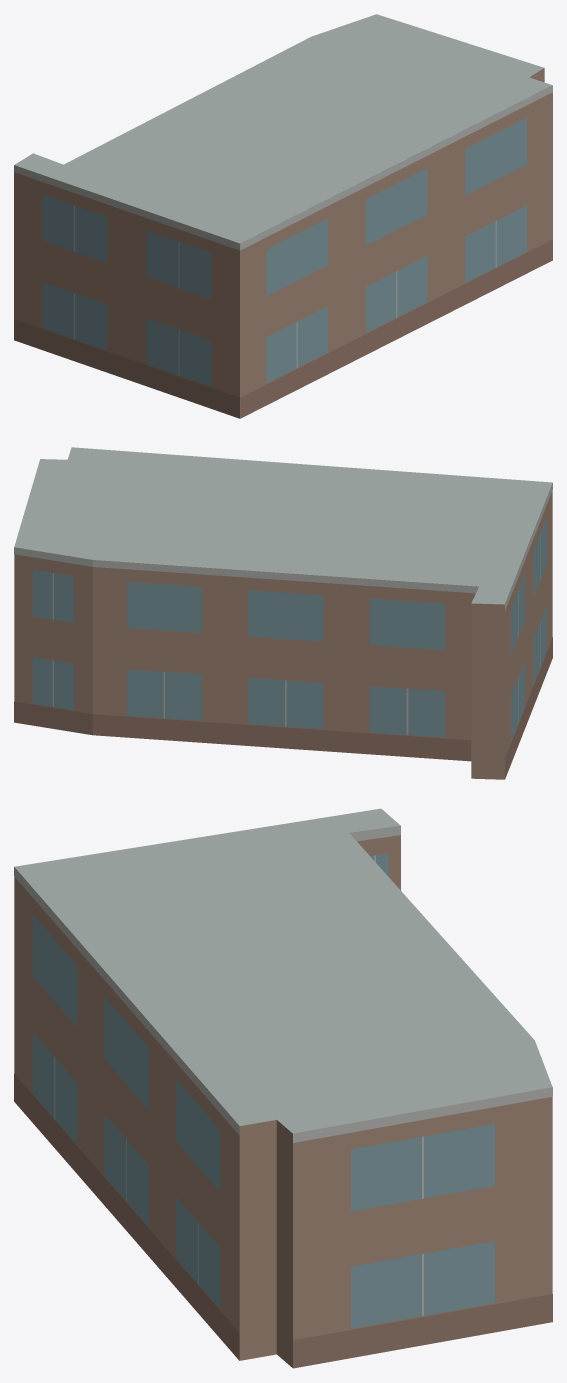
The model's file is survey-upis-32621670.glb.
3 renders of one model, top to bottom at view 1: azimuth 30°, elevation 25°; view 2: azimuth 150°, elevation 25°; view 3: azimuth 270°, elevation 25°, orthographic. The views are drawn at different scales.
Visible parts, largest first — view 1: survey-upis-32621670.tmp; view 2: survey-upis-32621670.tmp; view 3: survey-upis-32621670.tmp.
Part boxes in pixels (x1,y1,x2,y2): survey-upis-32621670.tmp: [14, 14, 552, 418]; survey-upis-32621670.tmp: [14, 447, 552, 779]; survey-upis-32621670.tmp: [14, 808, 552, 1368].
Bounding box in the file's own units: 18.14 × 6.1 × 12.7.
